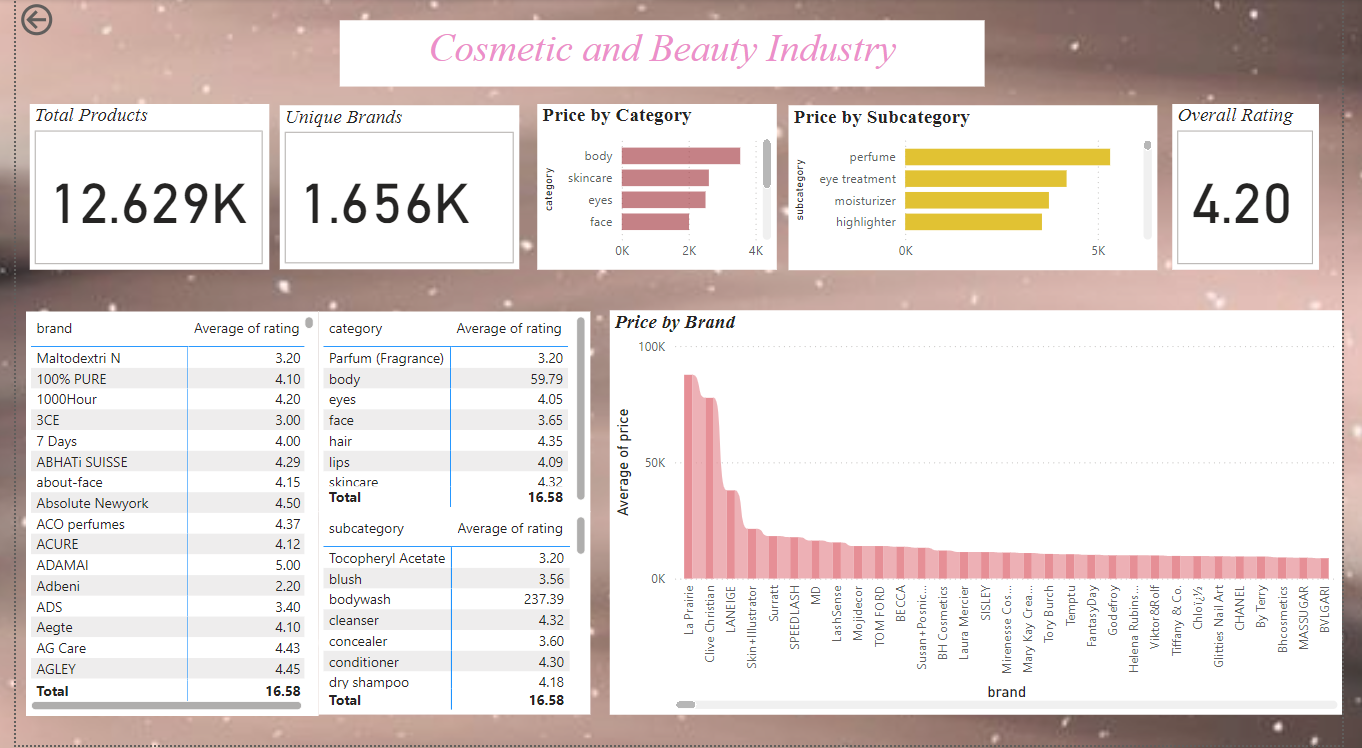

Layout of this report page (visuals, bound fields, positions):
{"tool":"powerbi","page":{"name":"Visualization1","canvas":[1280,720],"ordinal":0},"visuals":[{"type":"cardVisual","title":"Total Products","fields":{"Data":["CountNonNull(ecommerce_cosmetic_dataset.product_name)"]},"box":[13.2,101.5,230.9,160.3],"z":0},{"type":"cardVisual","title":"Unique Brands","fields":{"Data":["Count(ecommerce_cosmetic_dataset.brand)"]},"box":[255,102.5,231.2,158.8],"z":1},{"type":"actionButton","box":[0,0,100,40],"z":3},{"type":"pivotTable","fields":{"Values":["Avg(ecommerce_cosmetic_dataset.rating)"],"Rows":["ecommerce_cosmetic_dataset.brand"]},"box":[10,301.2,282.5,390],"z":4},{"type":"pivotTable","fields":{"Values":["Avg(ecommerce_cosmetic_dataset.rating)"],"Rows":["ecommerce_cosmetic_dataset.category"]},"box":[292.5,301.2,262.5,193.8],"z":5},{"type":"pivotTable","fields":{"Rows":["ecommerce_cosmetic_dataset.subcategory"],"Values":["Avg(ecommerce_cosmetic_dataset.rating)"]},"box":[292.5,495,262.5,196.2],"z":6},{"type":"barChart","title":"Price by Category","fields":{"Category":["ecommerce_cosmetic_dataset.category"],"Y":["Avg(ecommerce_cosmetic_dataset.price)"]},"box":[502.9,101.5,230.9,160.3],"z":7},{"type":"barChart","title":"Price by Subcategory","fields":{"Category":["ecommerce_cosmetic_dataset.subcategory"],"Y":["Avg(ecommerce_cosmetic_dataset.price)"]},"box":[745.6,102.9,355.9,158.8],"z":8},{"type":"cardVisual","title":"Overall Rating","fields":{"Data":["Median(ecommerce_cosmetic_dataset.rating)"]},"box":[1116.2,101.2,141.2,160],"z":9},{"type":"ribbonChart","title":"Price by Brand","fields":{"Category":["ecommerce_cosmetic_dataset.brand"],"Y":["Avg(ecommerce_cosmetic_dataset.price)"]},"box":[572.5,300,707.5,390],"z":11},{"type":"textbox","box":[312.5,20,622.5,63.8],"z":12}]}

Visuals, with their boxes in screenshot pixels (x1, y1, x2, y2), scaled from the page's 1280x720 canvas onto the 1362x748 screenshot:
"Total Products" cardVisual: detection(14, 105, 260, 272)
"Unique Brands" cardVisual: detection(271, 106, 517, 271)
actionButton: detection(0, 0, 106, 42)
pivotTable - Avg(ecommerce_cosmetic_dataset.rating) x ecommerce_cosmetic_dataset.brand: detection(11, 313, 311, 718)
pivotTable - Avg(ecommerce_cosmetic_dataset.rating) x ecommerce_cosmetic_dataset.category: detection(311, 313, 591, 514)
pivotTable - ecommerce_cosmetic_dataset.subcategory x Avg(ecommerce_cosmetic_dataset.rating): detection(311, 514, 591, 718)
"Price by Category" barChart: detection(535, 105, 781, 272)
"Price by Subcategory" barChart: detection(793, 107, 1172, 272)
"Overall Rating" cardVisual: detection(1188, 105, 1338, 271)
"Price by Brand" ribbonChart: detection(609, 312, 1361, 717)
textbox: detection(333, 21, 995, 87)
